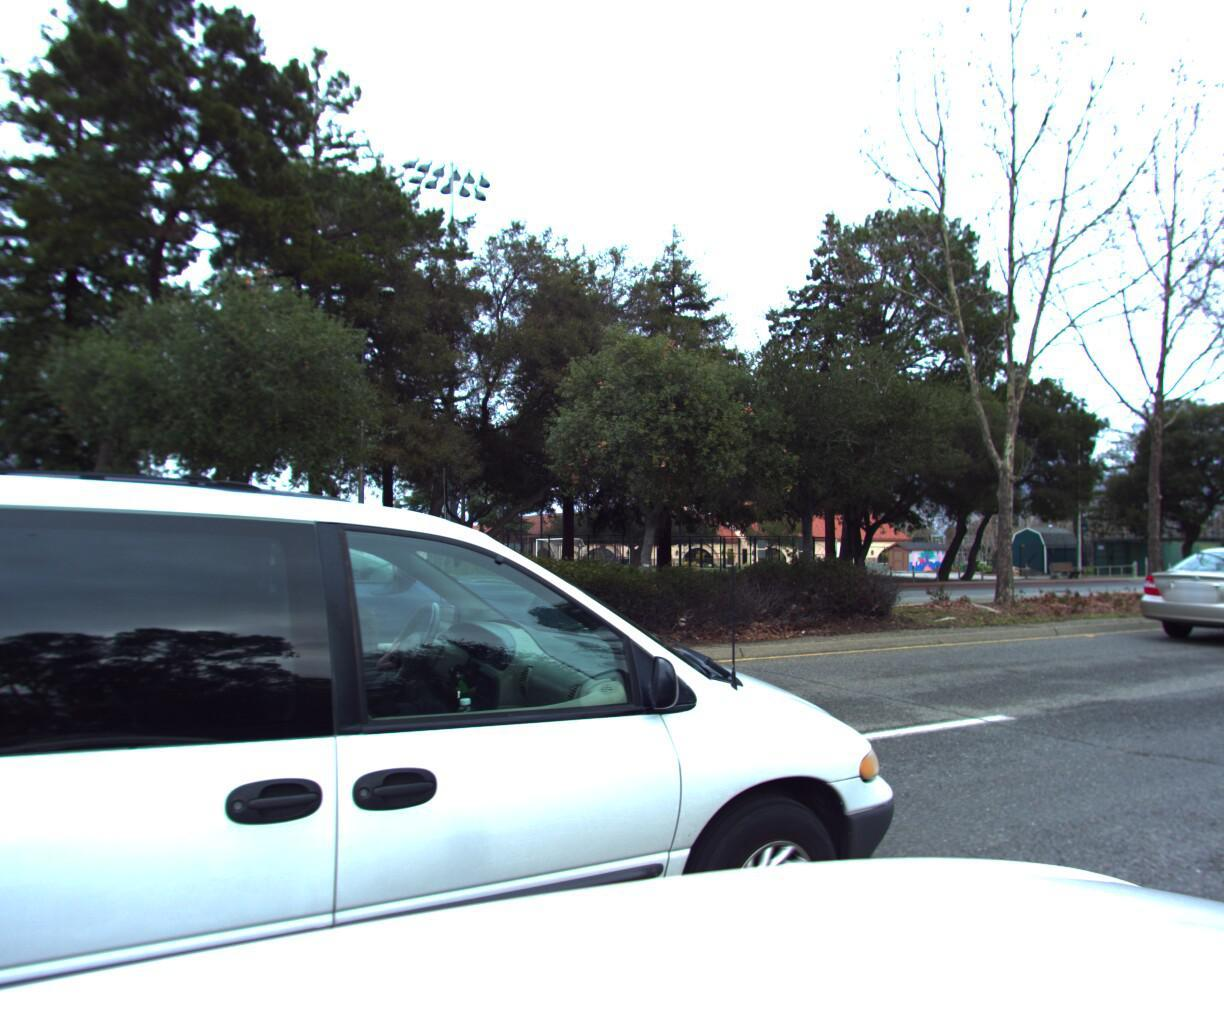car: (0, 214, 998, 1024), (0, 417, 607, 852), (1119, 535, 1224, 656)
